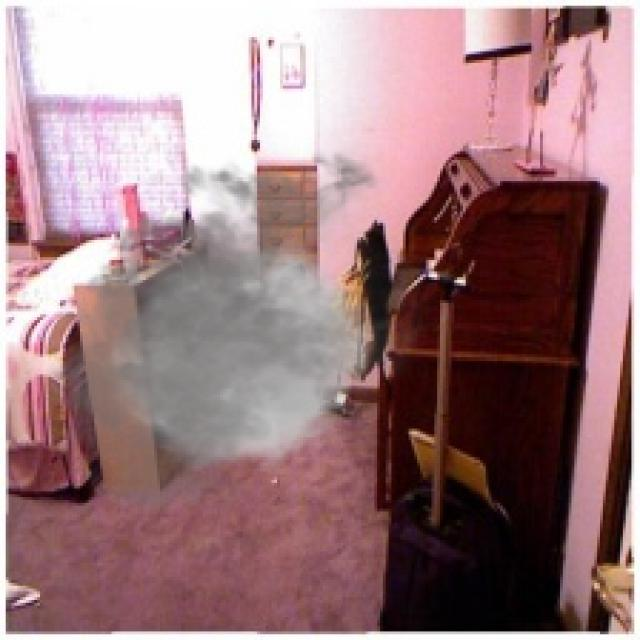smoke: (31, 140, 446, 526)
